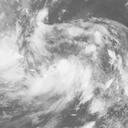cyclone: (28, 23, 102, 99)
